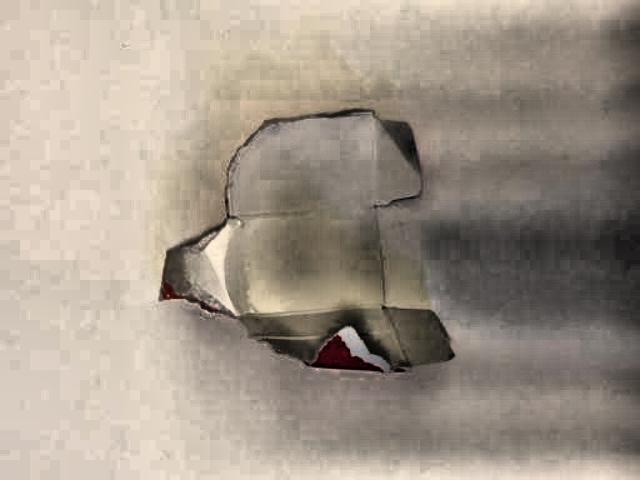Paper: (148, 95, 482, 404)
